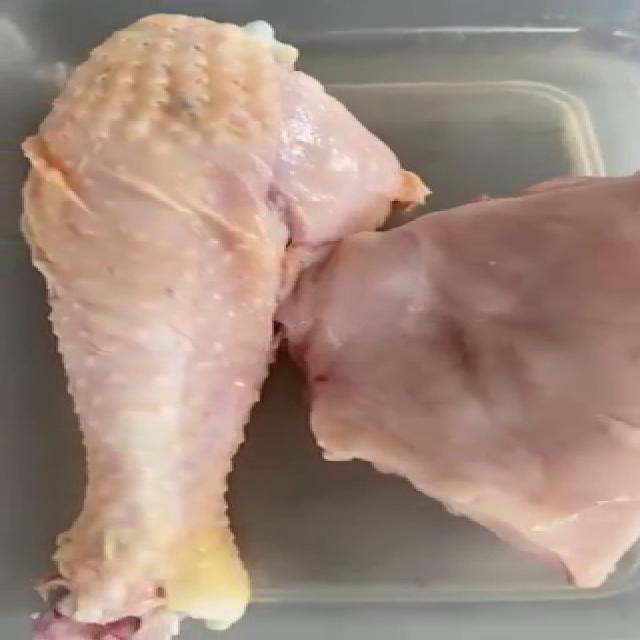chicken: (17, 12, 431, 638), (275, 169, 639, 590)
